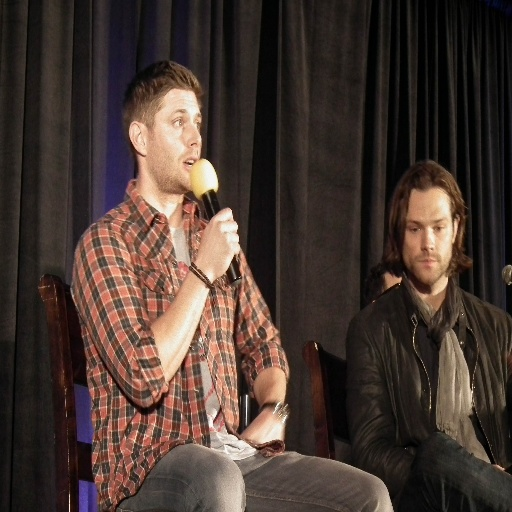hand: (196, 205, 240, 279), (239, 410, 284, 441)
